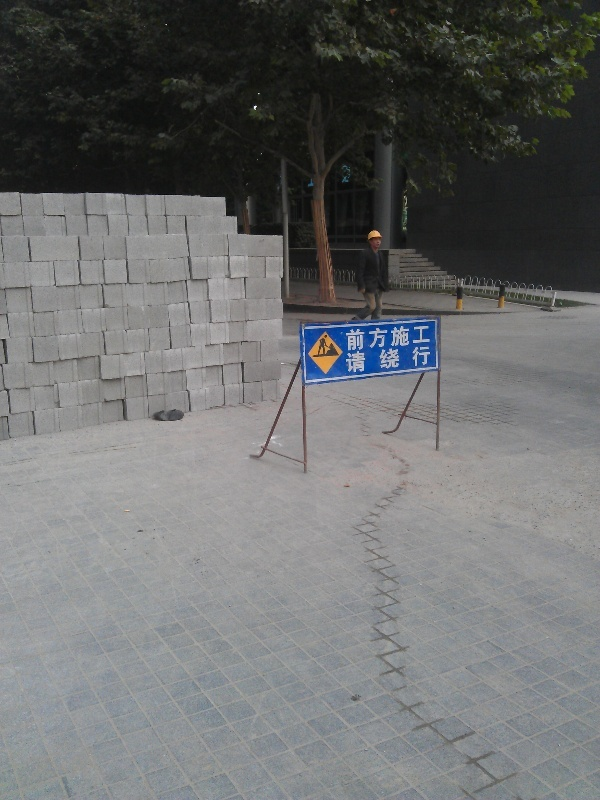text: (353, 344, 368, 374), (369, 344, 384, 374), (385, 344, 400, 374), (401, 344, 416, 374), (417, 344, 431, 374), (353, 325, 368, 351), (369, 325, 384, 351), (385, 325, 400, 351), (401, 325, 416, 351), (417, 325, 431, 351), (346, 344, 352, 374), (346, 325, 352, 351)
